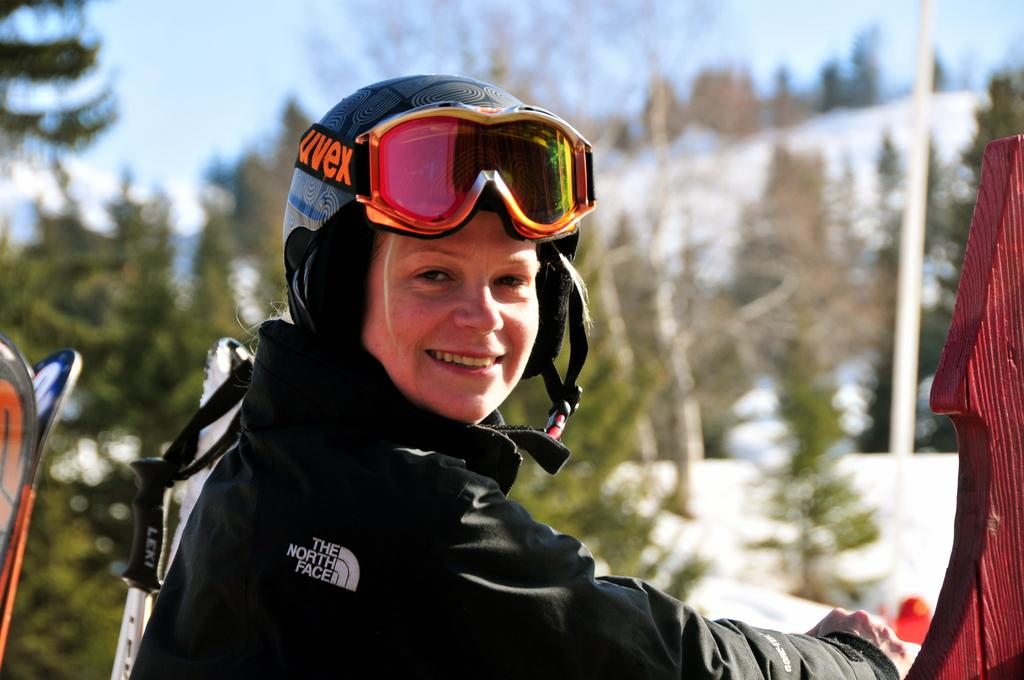helmet: (282, 74, 580, 417)
